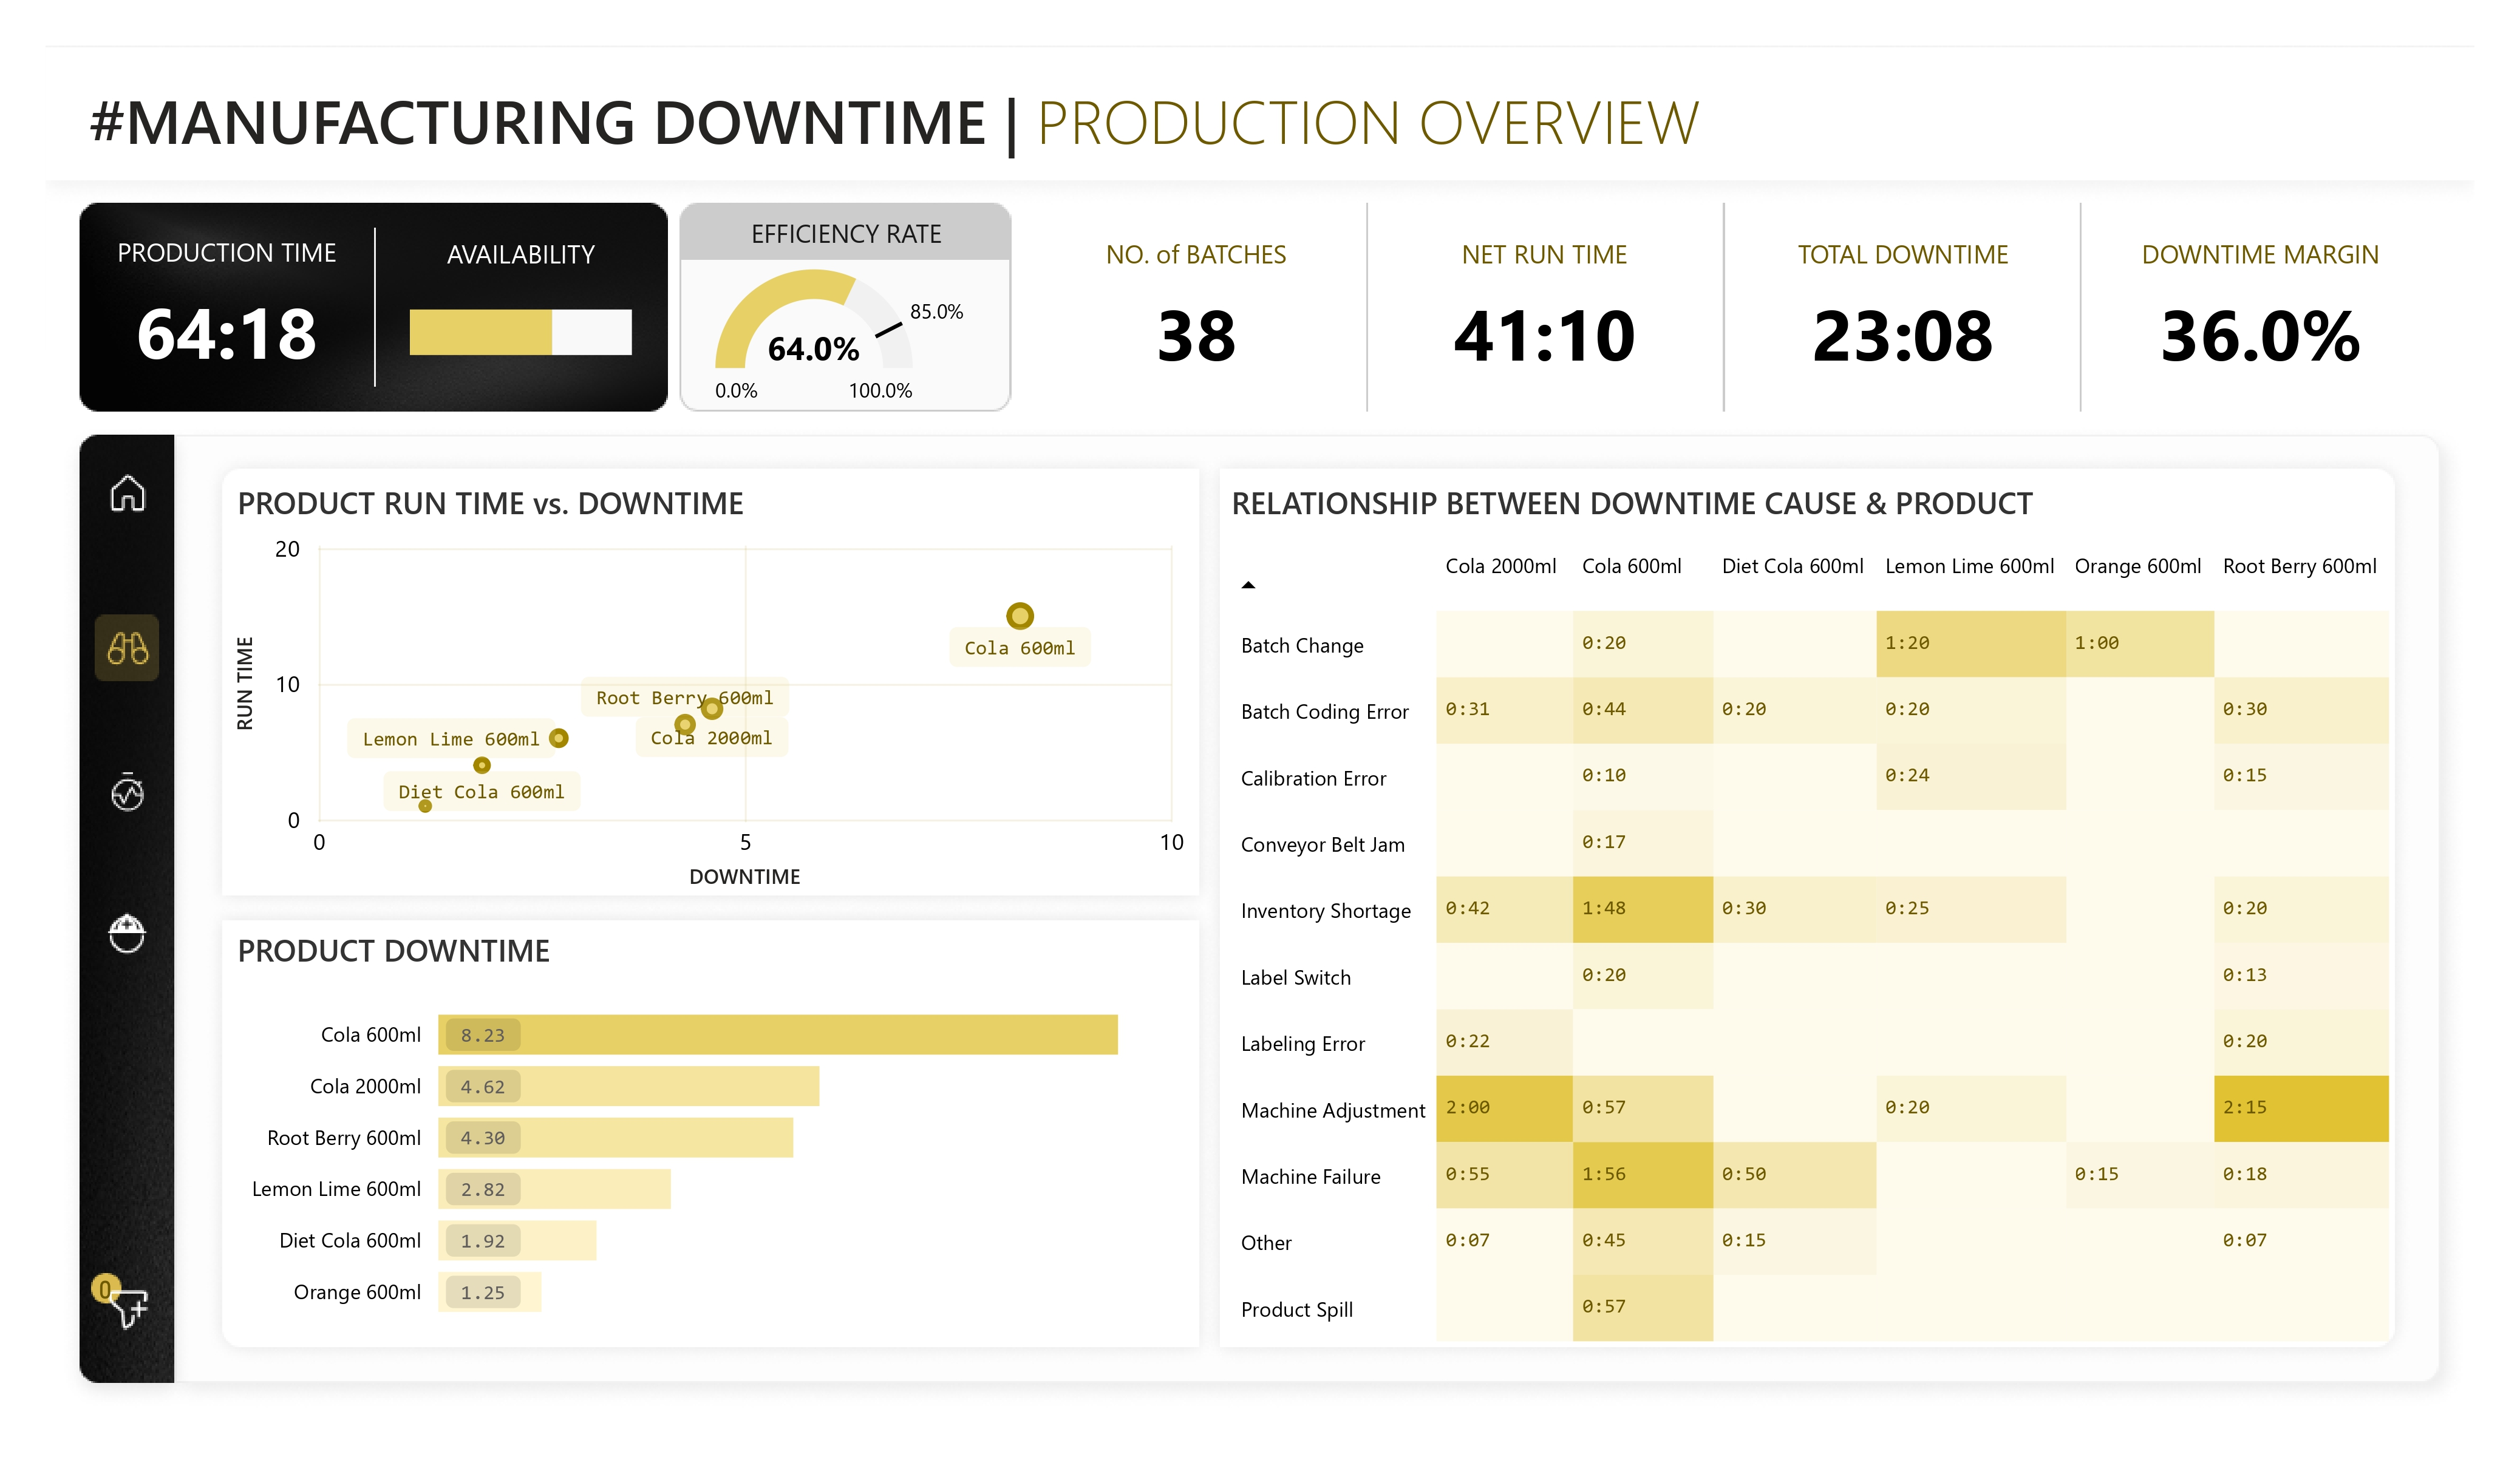

The page's visual inventory and layout, read from the dashboard file:
{"tool":"powerbi","page":{"name":"Production Overview","canvas":[1280,720],"ordinal":1},"visuals":[{"type":"cardVisual","fields":{"Data":["_Measures.Total Production Time"]},"box":[17.7,82.5,155.2,110.8],"z":0},{"type":"card","fields":{"Values":["_Measures.Active Filters"]},"box":[21.3,644.7,19.5,19.5],"z":0,"group":"g1"},{"type":"hundredPercentStackedBarChart","fields":{"Y":["_Measures.Net Operating Time (M)","_Measures.Total Downtime (M)"]},"box":[191.5,99.3,117.9,97.5],"z":1000},{"type":"actionButton","box":[17.8,638.5,49.7,50.5],"z":1000,"group":"g1"},{"type":"textbox","box":[191.5,95.8,117.9,29.3],"z":2000},{"type":"gauge","title":"EFFICIENCY TARGET","fields":{"Y":["_Measures.Overall Line Efficiency (%)"]},"box":[333,113,175,86.9],"z":3000},{"type":"textbox","box":[334.3,85.1,175.6,29.3],"z":4000},{"type":"scatterChart","title":"PRODUCT RUN TIME vs. DOWNTIME","fields":{"Category":["dProducts.Product Name"],"Size":["_Measures.Total Production Time (M)"],"X":["_Measures.Total Downtime (H)"],"Y":["_Measures.Net Operating Time (H)"]},"box":[95.8,229.7,509,220],"z":5000},{"type":"clusteredBarChart","title":"PRODUCT DOWNTIME","fields":{"Category":["dProducts.Product Name"],"Y":["_Measures.Total Downtime (H)"]},"box":[95.8,466.4,509,217.2],"z":6000},{"type":"cardVisual","fields":{"Data":["Count(fLineProductivity.BatchID)"]},"box":[517.1,82.6,179.2,110.7],"z":7000},{"type":"cardVisual","fields":{"Data":["_Measures.Net Operating Time (H:M)"]},"box":[696.3,82.6,188.6,110.7],"z":8000},{"type":"cardVisual","fields":{"Data":["_Measures.Total Downtime (H:M)"]},"box":[884.9,82.6,188.6,110.7],"z":9000},{"type":"cardVisual","fields":{"Data":["_Measures.Downtime %"]},"box":[1073.5,82.6,187.7,110.7],"z":10000},{"type":"pivotTable","title":"RELATIONSHIP BETWEEN DOWNTIME CAUSE & PRODUCT","fields":{"Rows":["dDowntimeFactors.Description"],"Values":["_Measures.Total Downtime (H:M)"],"Columns":["dProducts.Product Name"]},"box":[625.1,229.7,610,454.9],"z":11000},{"type":"textbox","box":[18.2,11.8,896.6,57.2],"z":12000},{"type":"pageNavigator","box":[17,205,50,305],"z":13000},{"type":"group","id":"g1","title":"Filter Button","box":[17.8,638.5,49.7,50.5],"z":14000}]}

Visuals, with their boxes on the page's 1280x720 design canvas (x1, y1, x2, y2). These are canvas units, not pixel positions in the 2520x1457 screenshot, which may show the page scaled, cropped or inside an application window:
cardVisual - _Measures.Total Production Time: {"x1": 18, "y1": 82, "x2": 173, "y2": 193}
card - _Measures.Active Filters: {"x1": 21, "y1": 645, "x2": 41, "y2": 664}
hundredPercentStackedBarChart - _Measures.Net Operating Time (M) x _Measures.Total Downtime (M): {"x1": 192, "y1": 99, "x2": 309, "y2": 197}
actionButton: {"x1": 18, "y1": 638, "x2": 68, "y2": 689}
textbox: {"x1": 192, "y1": 96, "x2": 309, "y2": 125}
"EFFICIENCY TARGET" gauge: {"x1": 333, "y1": 113, "x2": 508, "y2": 200}
textbox: {"x1": 334, "y1": 85, "x2": 510, "y2": 114}
"PRODUCT RUN TIME vs. DOWNTIME" scatterChart: {"x1": 96, "y1": 230, "x2": 605, "y2": 450}
"PRODUCT DOWNTIME" clusteredBarChart: {"x1": 96, "y1": 466, "x2": 605, "y2": 684}
cardVisual - Count(fLineProductivity.BatchID): {"x1": 517, "y1": 83, "x2": 696, "y2": 193}
cardVisual - _Measures.Net Operating Time (H:M): {"x1": 696, "y1": 83, "x2": 885, "y2": 193}
cardVisual - _Measures.Total Downtime (H:M): {"x1": 885, "y1": 83, "x2": 1074, "y2": 193}
cardVisual - _Measures.Downtime %: {"x1": 1074, "y1": 83, "x2": 1261, "y2": 193}
"RELATIONSHIP BETWEEN DOWNTIME CAUSE & PRODUCT" pivotTable: {"x1": 625, "y1": 230, "x2": 1235, "y2": 685}
textbox: {"x1": 18, "y1": 12, "x2": 915, "y2": 69}
pageNavigator: {"x1": 17, "y1": 205, "x2": 67, "y2": 510}
"Filter Button" group: {"x1": 18, "y1": 638, "x2": 68, "y2": 689}
